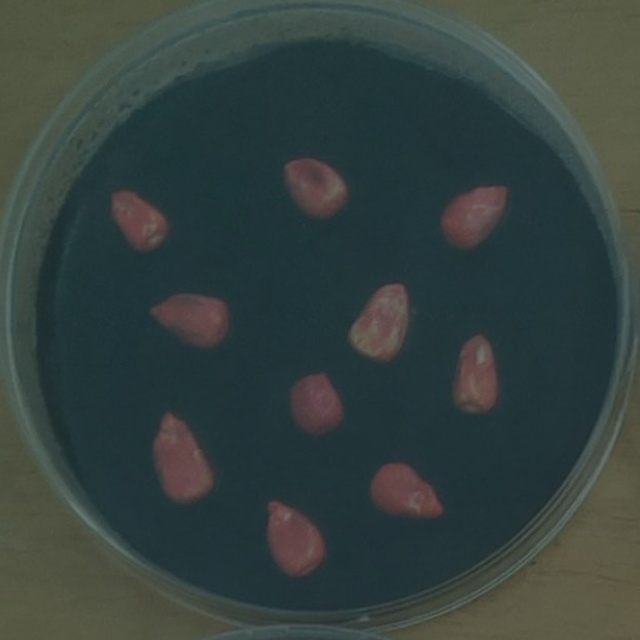Zea mays: (144, 407, 221, 512), (340, 275, 418, 371), (139, 285, 237, 359), (257, 493, 335, 585), (430, 177, 517, 258), (275, 149, 357, 228), (361, 455, 450, 526), (442, 327, 506, 424), (100, 180, 177, 258), (280, 365, 351, 446)
